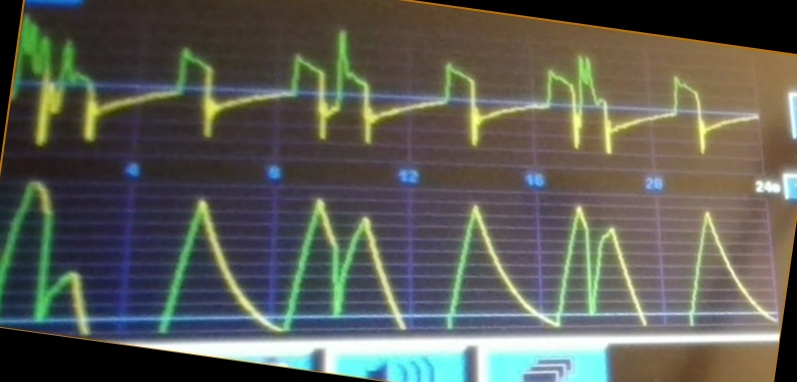Double_Triggering Flow: (12, 13, 619, 158)
Double_Triggering Volume: (2, 178, 653, 338)
